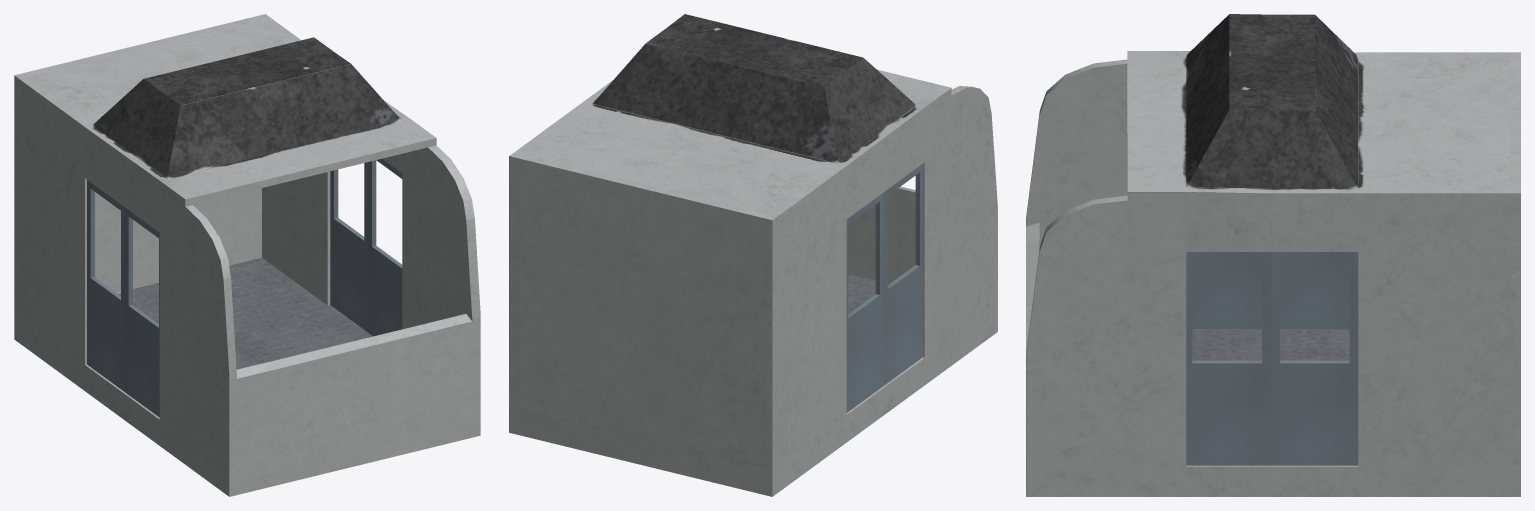
The model's file is CableCar.gltf.
The picture shows the model from 3 angles, left to right: view 1: azimuth 30°, elevation 25°; view 2: azimuth 150°, elevation 25°; view 3: azimuth 270°, elevation 25°; orthographic projection. The views are drawn at different scales.
Parts seen in each view (by area): view 1: Cube, WagonDoorWide.004, WagonDoorWide.003, WagonDoorWide.001, WagonDoorWide.002; view 2: Cube, WagonDoorWide.003, WagonDoorWide.004; view 3: Cube, WagonDoorWide.001, WagonDoorWide.002, WagonDoorWide.003, WagonDoorWide.004.
Part boxes in pixels (x1,y1,x2,y2): Cube: (14, 14, 480, 496); WagonDoorWide.004: (87, 180, 124, 391); WagonDoorWide.003: (124, 207, 159, 417); WagonDoorWide.001: (330, 162, 367, 332); WagonDoorWide.002: (367, 158, 402, 336); Cube: (509, 14, 997, 496); WagonDoorWide.003: (883, 164, 922, 385); WagonDoorWide.004: (846, 193, 883, 412); Cube: (1026, 14, 1520, 496); WagonDoorWide.001: (1272, 252, 1358, 465); WagonDoorWide.002: (1186, 252, 1272, 465); WagonDoorWide.003: (1192, 260, 1261, 329); WagonDoorWide.004: (1280, 260, 1349, 329).
Bounding box in the file's own units: 3.99 × 4.81 × 5.92.
Materials: 2 (2 with a texture image).
